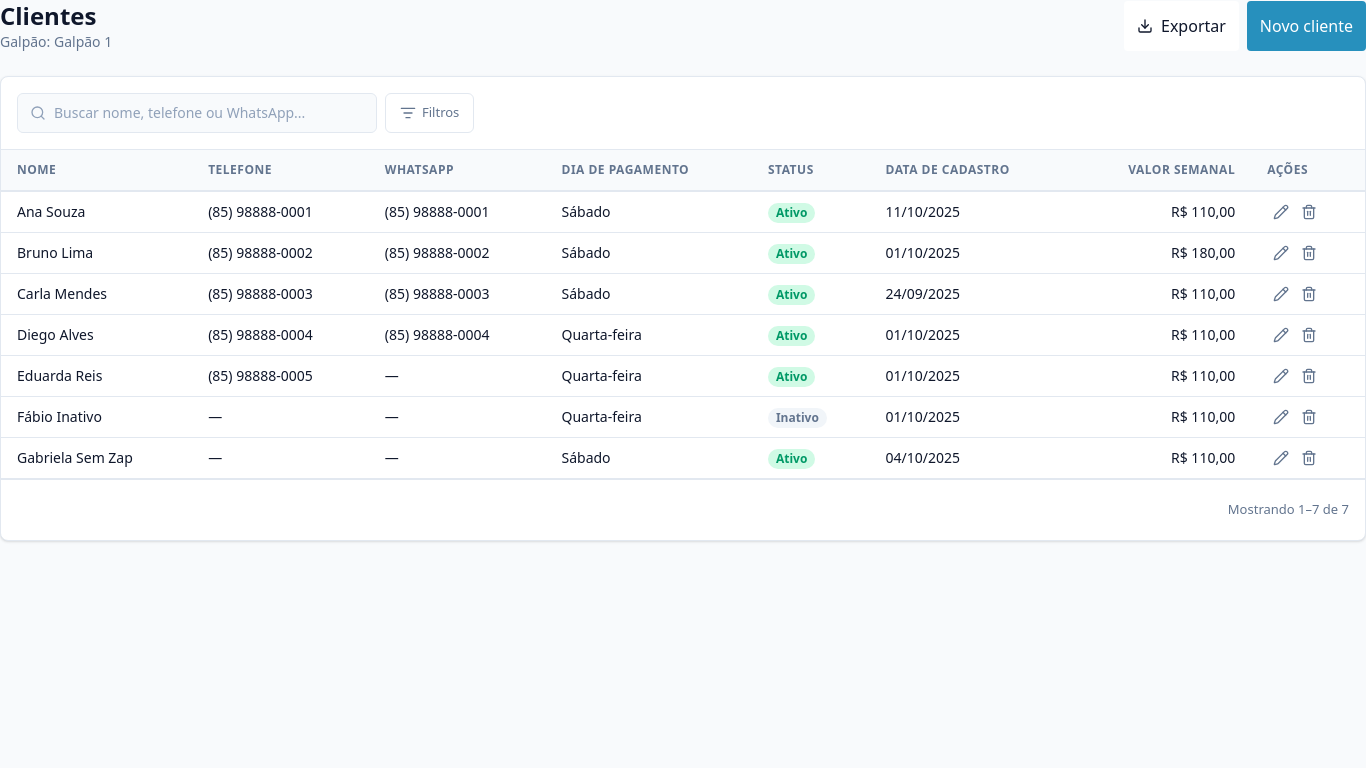
Test case: Clientes: novo cliente › o preço do tipo mostra o preço próprio do galpão quando há
Click the button "Novo cliente". click: (1306, 26)
box: [1247,1,1365,51]
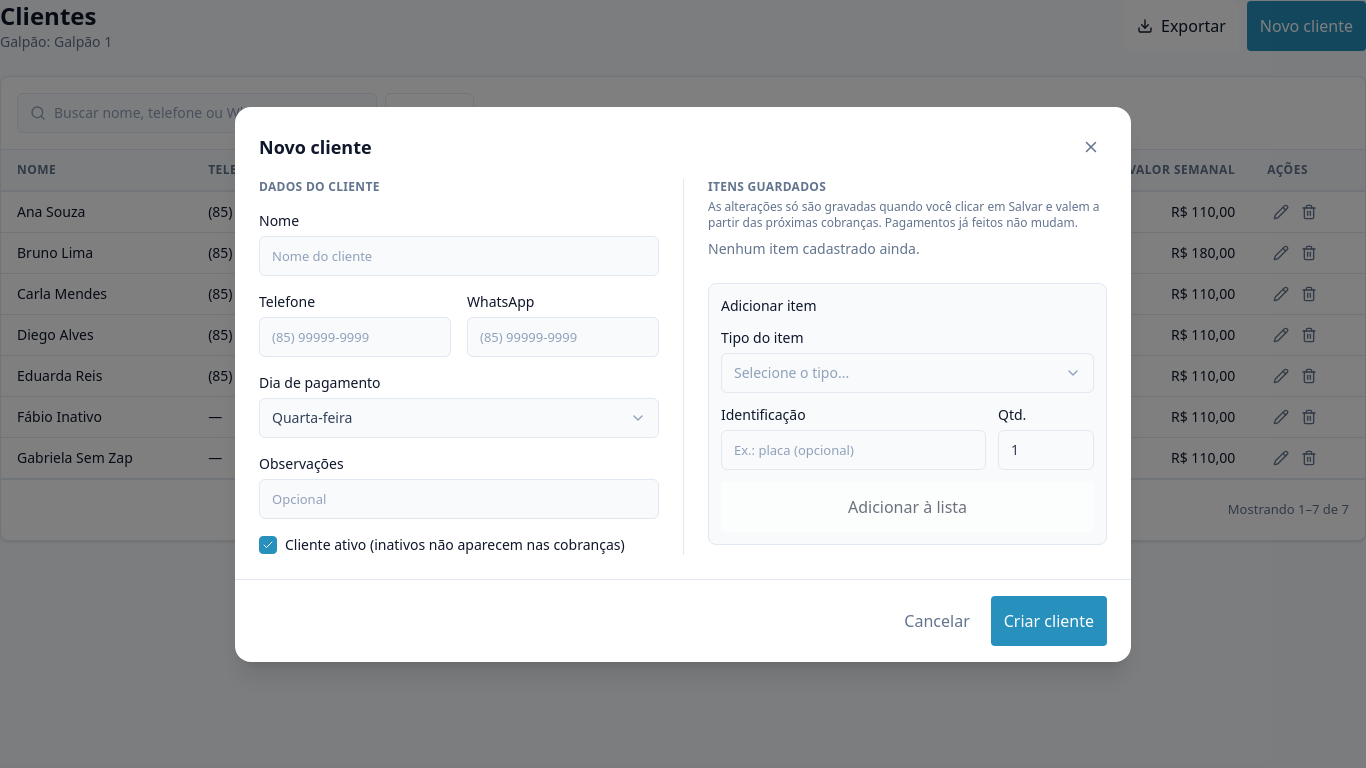
Click the button named "Tipo do item". click: (792, 372)
box: [721,352,1094,392]
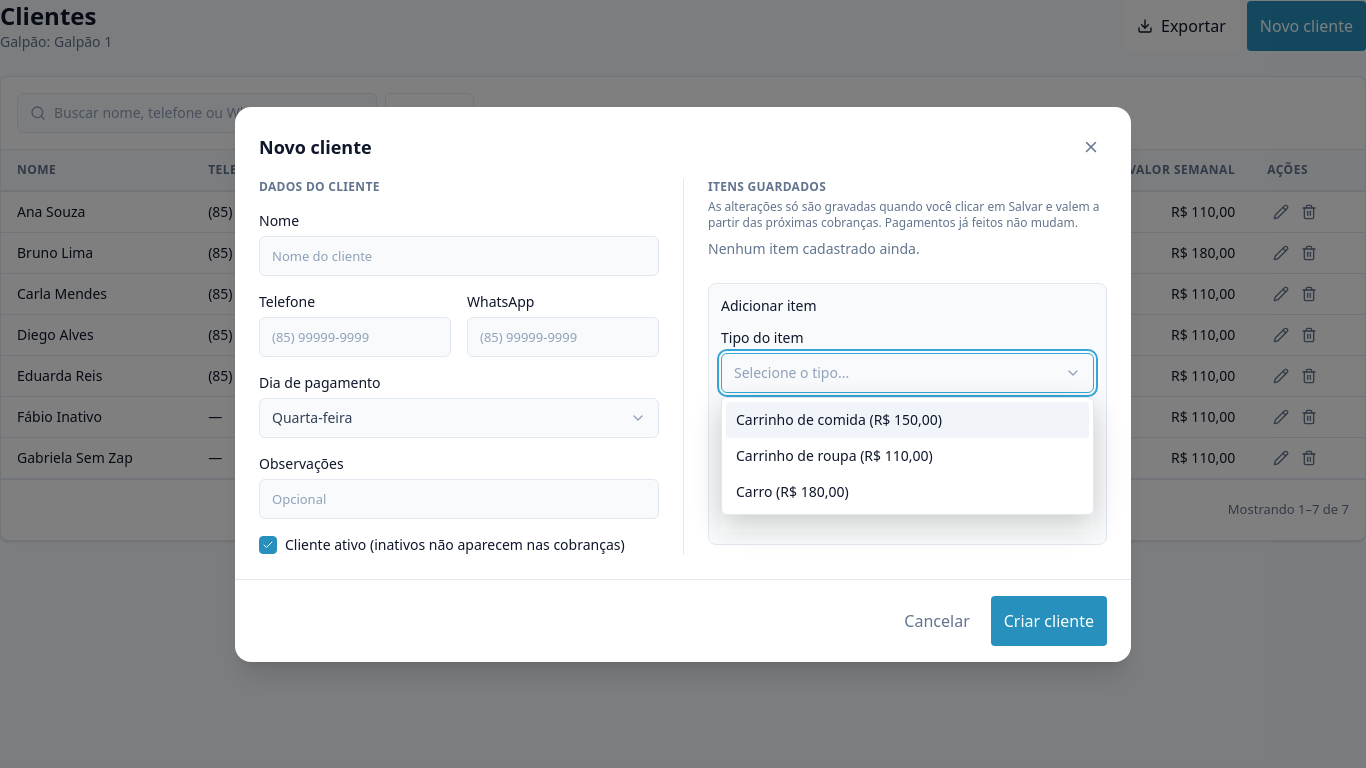
Check: the option "Carro (R$ 180,00)" is shown, box [736,482,849,500]
